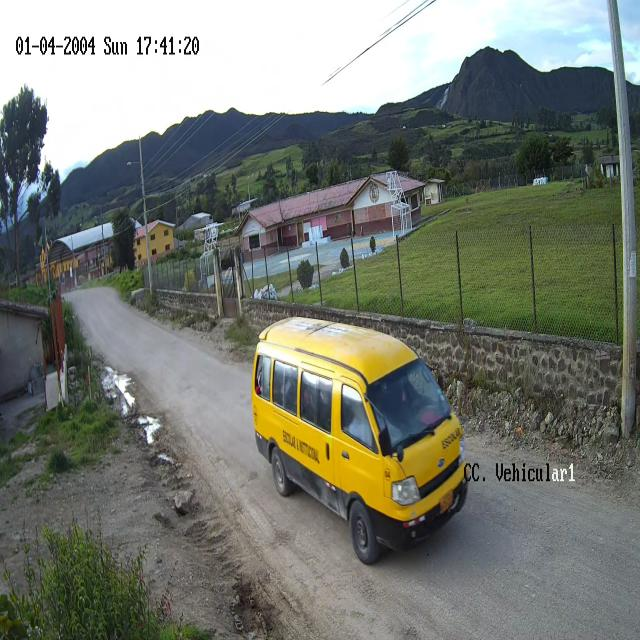BUS: (250, 318, 469, 566)
